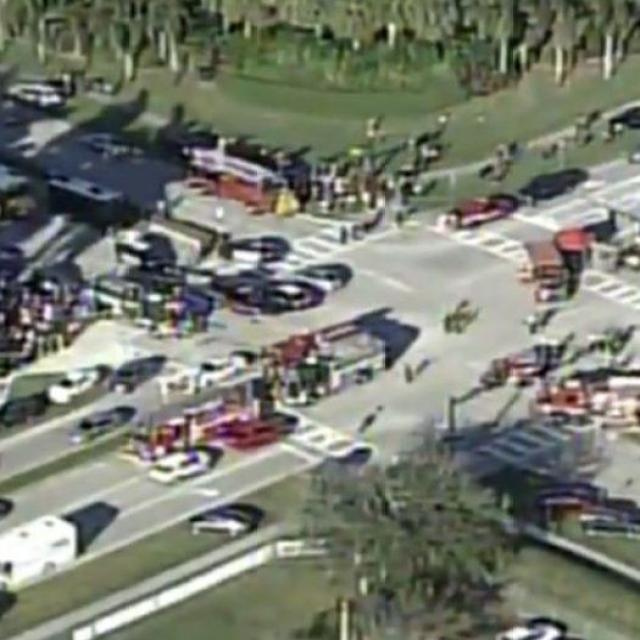traffic_incident: (468, 324, 639, 434), (478, 212, 629, 309)
